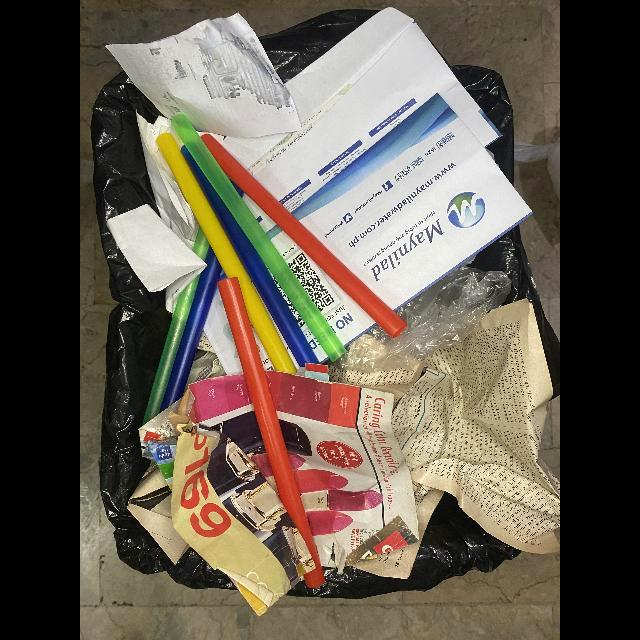paper: (329, 298, 560, 583), (199, 6, 505, 212), (290, 93, 535, 313), (266, 360, 416, 575), (170, 389, 294, 613), (187, 375, 314, 585), (107, 11, 303, 137), (103, 206, 207, 316), (128, 408, 189, 565), (136, 113, 198, 252)
plastic_bag: (336, 269, 513, 375)
